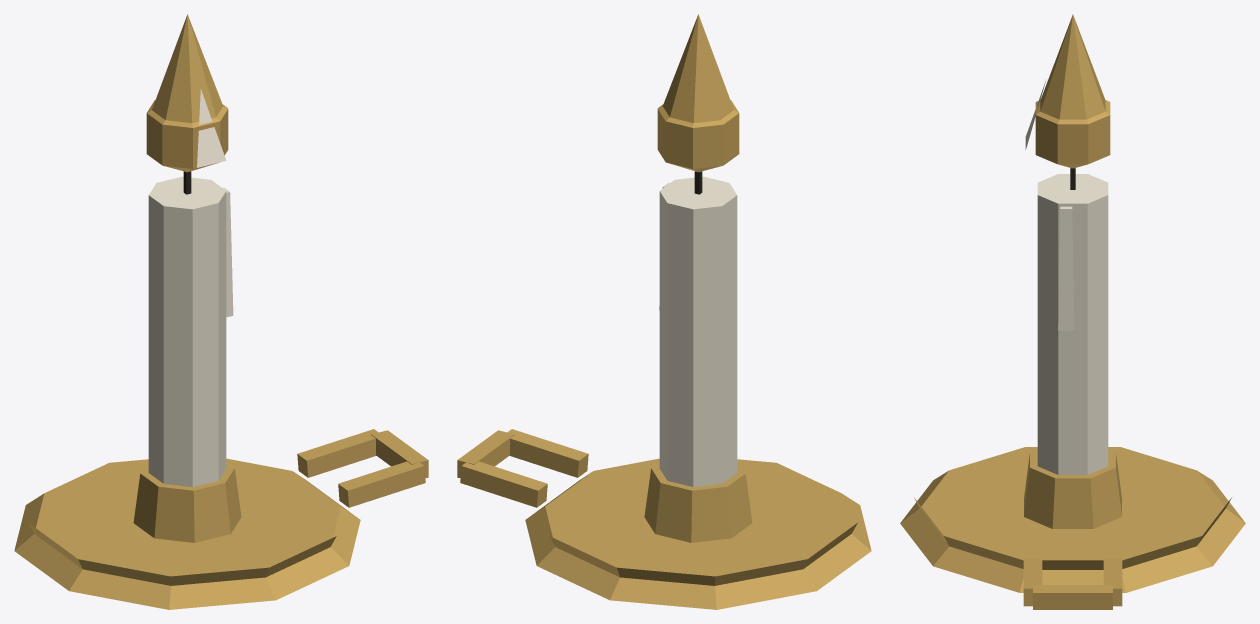
Rendered from desk-candle.glb.
The picture shows the model from 3 angles, left to right: view 1: azimuth 30°, elevation 25°; view 2: azimuth 150°, elevation 25°; view 3: azimuth 270°, elevation 25°; orthographic projection. The views are drawn at different scales.
Parts seen in each view (by area): view 1: desk-candle; view 2: desk-candle; view 3: desk-candle.
Part boxes in pixels (x1,y1,x2,y2): desk-candle: [14, 14, 428, 609]; desk-candle: [457, 14, 871, 609]; desk-candle: [900, 14, 1245, 609].
Size of the model in its own units: 12.43 by 16.9 by 10.4.
Materials: 1 (1 with a texture image).
